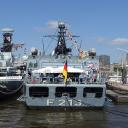Fragata: (22, 22, 111, 112)
